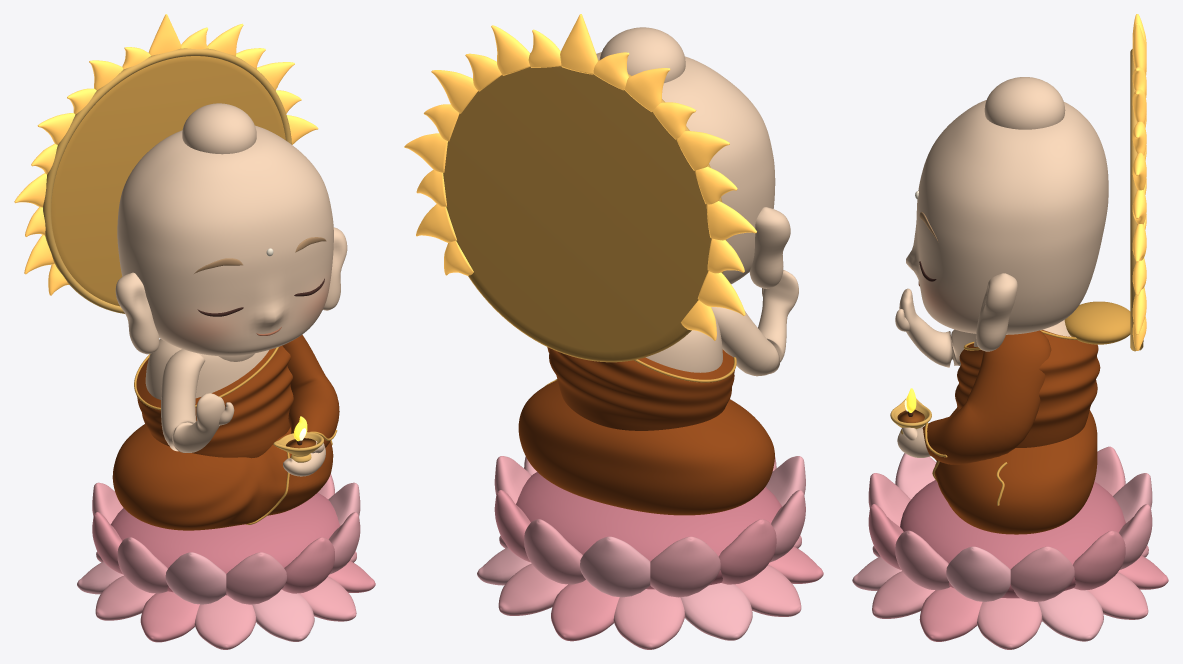
The model's file is chibi-nhien-dang.glb.
The picture shows the model from 3 angles, left to right: view 1: azimuth 30°, elevation 25°; view 2: azimuth 150°, elevation 25°; view 3: azimuth 270°, elevation 25°; orthographic projection. The views are drawn at different scales.
Parts seen in each view (by area): view 1: Dipankara | Chibi figurine; view 2: Dipankara | Chibi figurine; view 3: Dipankara | Chibi figurine.
Part boxes in pixels (x1,y1,x2,y2): Dipankara | Chibi figurine: (14,14,375,649); Dipankara | Chibi figurine: (404,14,823,649); Dipankara | Chibi figurine: (852,14,1168,649).
Bounding box in the file's own units: 2.52 × 4.23 × 2.15.
